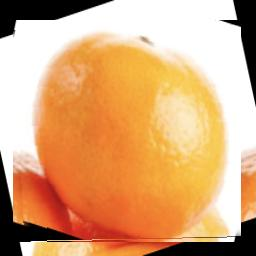Orange Fresh: (13, 21, 241, 243)
